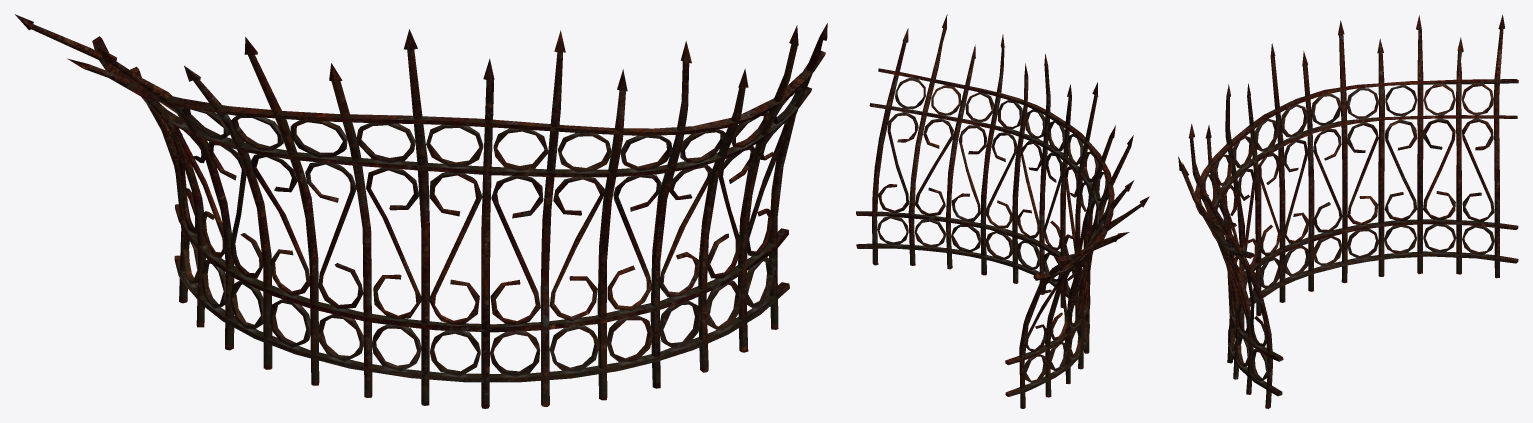
The model's file is SM_fence_14.fbx.
The picture shows the model from 3 angles, left to right: view 1: azimuth 30°, elevation 25°; view 2: azimuth 150°, elevation 25°; view 3: azimuth 270°, elevation 25°; orthographic projection. The views are drawn at different scales.
Visible parts, largest first — view 1: SM_fence_14; view 2: SM_fence_14; view 3: SM_fence_14.
Part boxes in pixels (bbox=[...]): SM_fence_14: bbox=[15, 14, 827, 408]; SM_fence_14: bbox=[856, 14, 1149, 408]; SM_fence_14: bbox=[1178, 14, 1518, 408].
Size of the model in its own units: 215 by 132 by 162.
